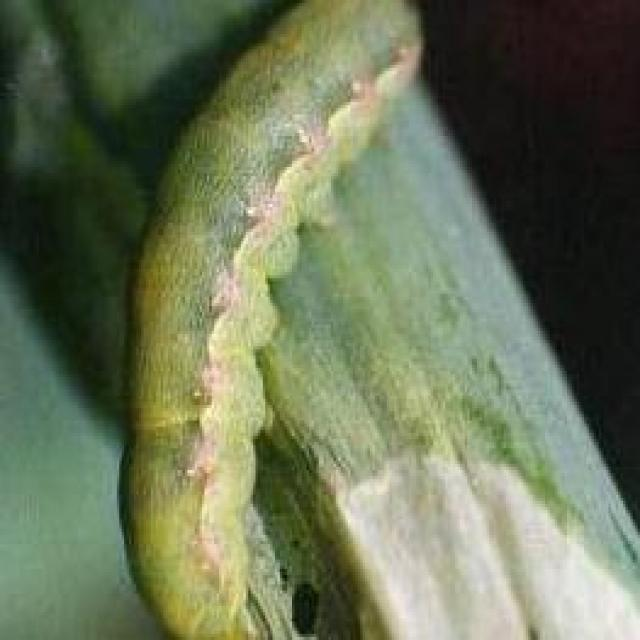BeetArmyWorm-Larva-: (106, 2, 436, 637)
